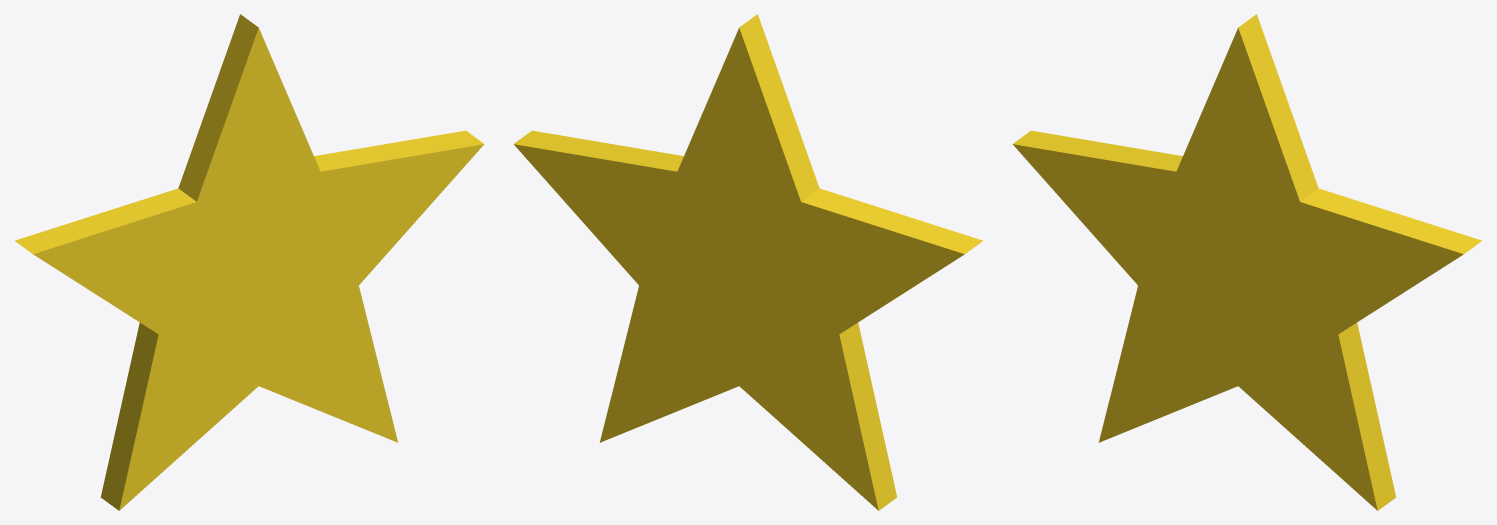
File: Star.fbx
3 views of the same model, side by side, from view 1: azimuth 30°, elevation 25°; view 2: azimuth 150°, elevation 25°; view 3: azimuth 330°, elevation 25° (orthographic).
Visible parts, largest first — view 1: Star; view 2: Star; view 3: Star.
Boxes of the visible parts, x1,y1,x2,y2 form: Star: [15, 14, 484, 510]; Star: [513, 14, 982, 510]; Star: [1012, 14, 1481, 510].
Bounding box in the file's own units: 164 × 156 × 11.65.
